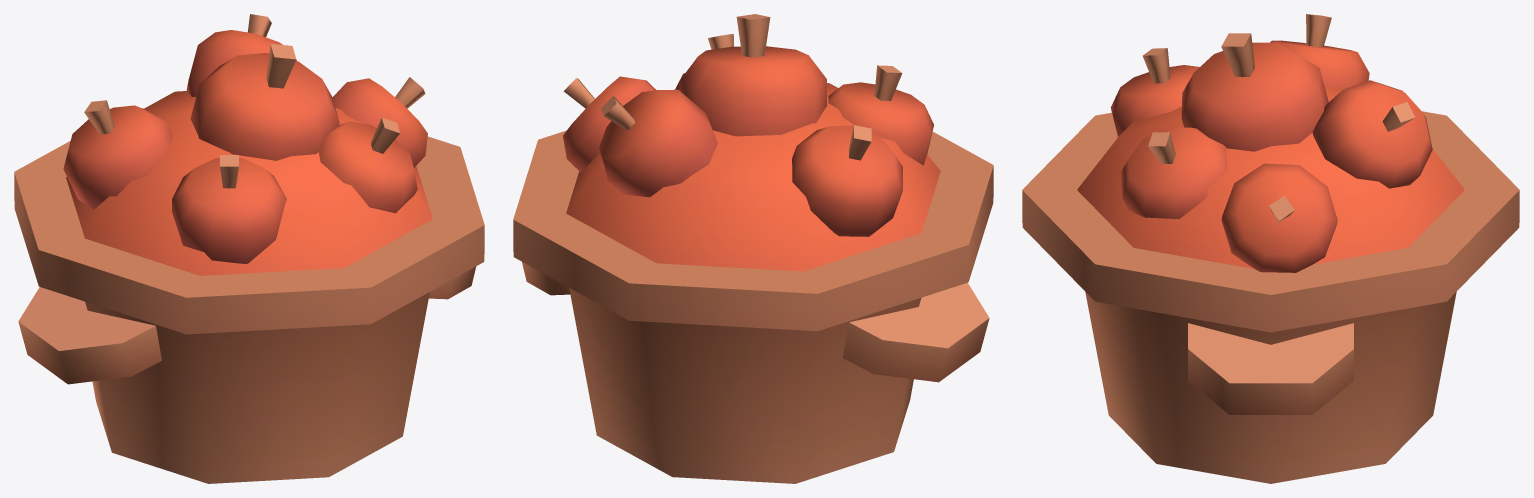
Rendered from display-fruit.glb.
3 views of the same model, side by side, from view 1: azimuth 30°, elevation 25°; view 2: azimuth 150°, elevation 25°; view 3: azimuth 270°, elevation 25° (orthographic). The views are drawn at different scales.
Parts seen in each view (by area): view 1: display-fruit; view 2: display-fruit; view 3: display-fruit.
Part boxes in pixels (x1,y1,x2,y2): display-fruit: (14, 14, 484, 483); display-fruit: (513, 14, 993, 483); display-fruit: (1022, 14, 1519, 483).
Bounding box in the file's own units: 0.6 × 0.516 × 0.6.
1 material, 1 textured.
